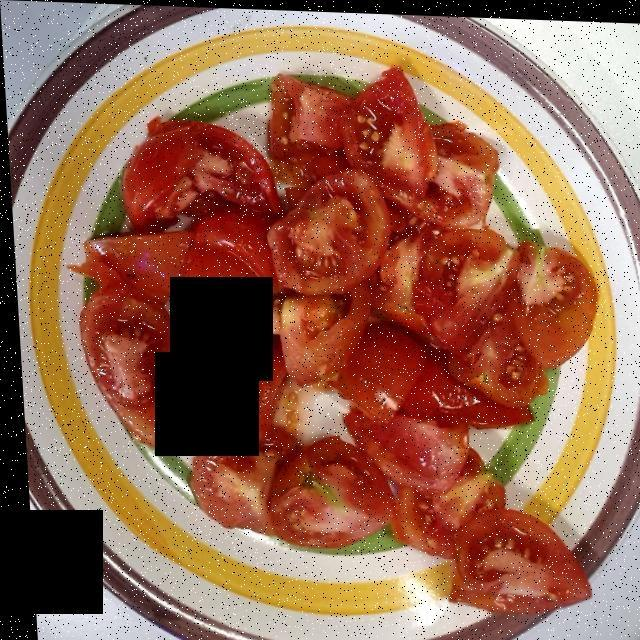tomato: (71, 64, 591, 618)
